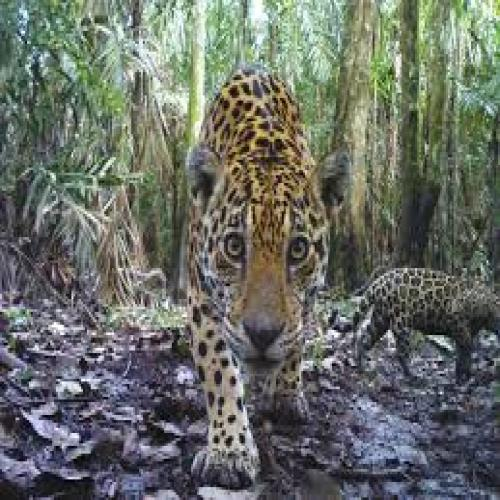jaguar_not-endangered: (182, 69, 354, 495)
